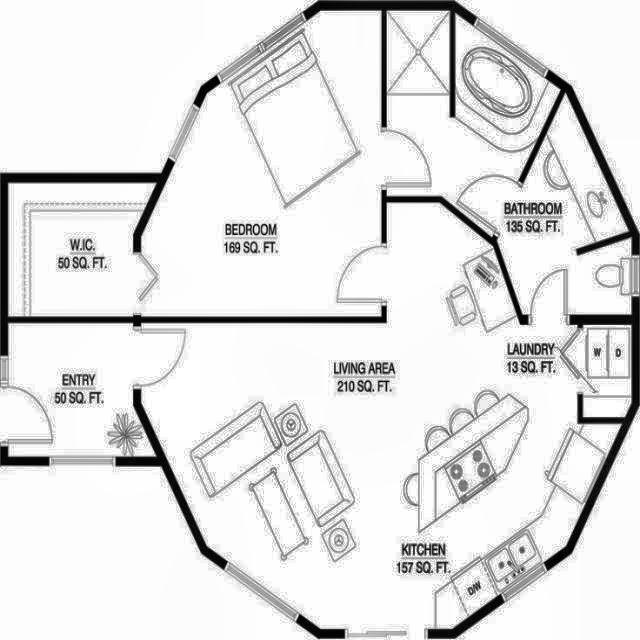room: (140, 10, 381, 317), (9, 182, 155, 316), (8, 324, 156, 456)
